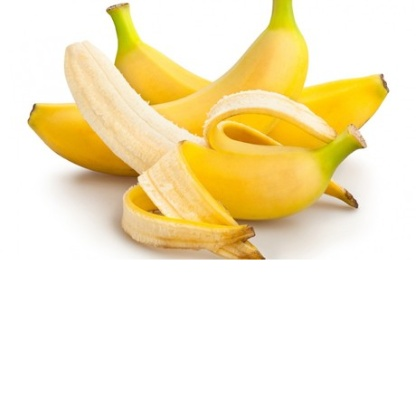chuoi: (27, 9, 388, 252)
